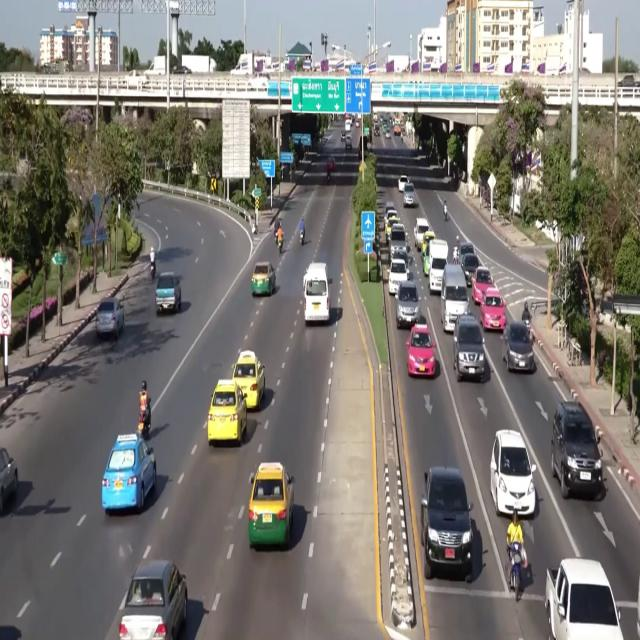car: (420, 467, 472, 579), (120, 560, 187, 639), (552, 401, 604, 499), (102, 434, 156, 514), (248, 463, 294, 548), (490, 430, 535, 516), (207, 379, 247, 446), (453, 313, 485, 381), (232, 351, 265, 409), (502, 321, 534, 371), (406, 324, 435, 376), (95, 297, 124, 339), (0, 448, 18, 515), (480, 288, 506, 331), (396, 280, 419, 328), (251, 262, 275, 295), (472, 266, 492, 304), (388, 259, 408, 295), (459, 254, 480, 287), (389, 224, 408, 258), (414, 217, 429, 250), (420, 231, 435, 263), (388, 248, 409, 268), (385, 211, 400, 238), (459, 241, 475, 261), (403, 183, 415, 207), (385, 200, 396, 219), (398, 175, 409, 192), (174, 65, 191, 74), (327, 156, 335, 172), (345, 134, 352, 149), (385, 129, 391, 139), (374, 126, 379, 136), (341, 131, 345, 142), (355, 120, 360, 127)
scooty: (509, 543, 523, 600), (138, 411, 150, 439), (524, 318, 530, 338), (524, 319, 530, 338), (150, 262, 155, 279), (277, 239, 282, 254), (300, 230, 304, 245), (444, 206, 448, 221), (444, 207, 448, 221), (327, 172, 330, 183)
truck: (545, 559, 622, 639), (156, 272, 181, 314), (429, 239, 448, 293), (181, 55, 216, 73), (230, 53, 254, 75), (145, 56, 165, 75)
